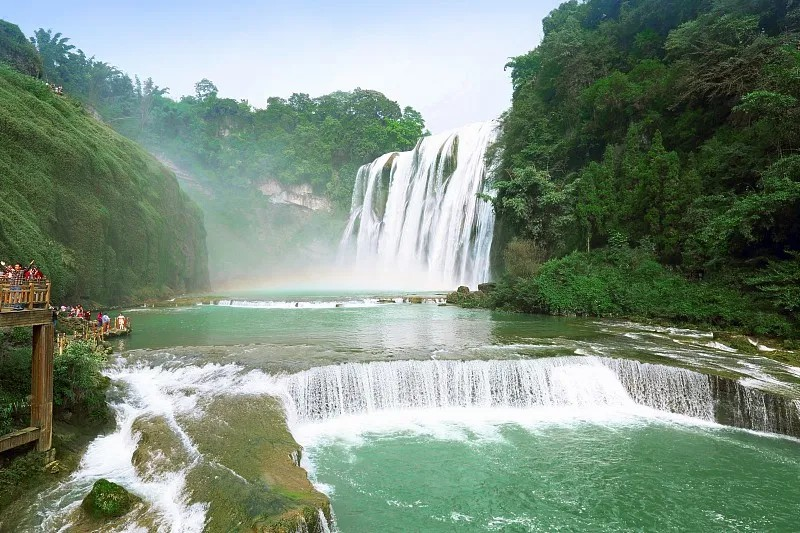Huangguoshu: (340, 122, 503, 294)
